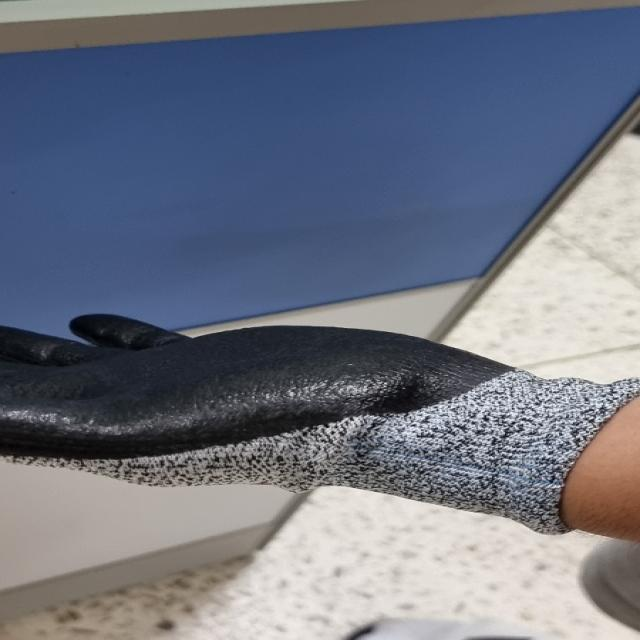Gloves: (1, 308, 640, 547)
